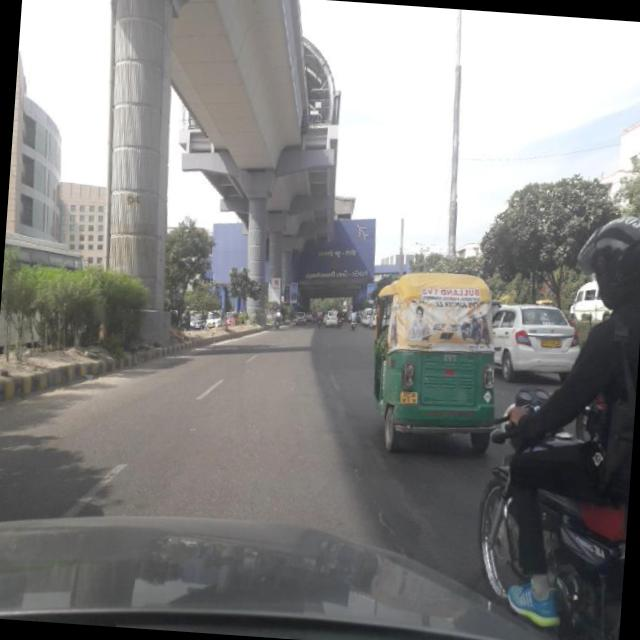pothole: (336, 445, 414, 548)
